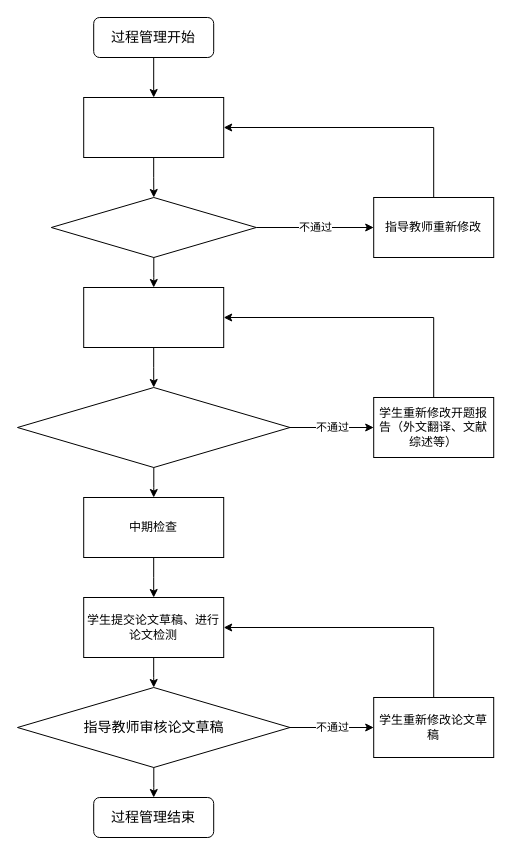
The diagram is 512 pixels wide and 855 high, and some of its shapes have lost their labels. The shapes that lost their labels are listed below. From the top down, each one's centre as x and y in pixels, then its label:
At point 153,127: "指导教师下达任务书或者学生上传任务书，指导教师提交任务书".
At point 153,227: "专业负责人审核 任务书".
At point 153,317: "学生提交开题报告（外文翻译、文献综述等）".
At point 153,427: "指导教师审核开题报告 （外文翻译、文献综述等）".
